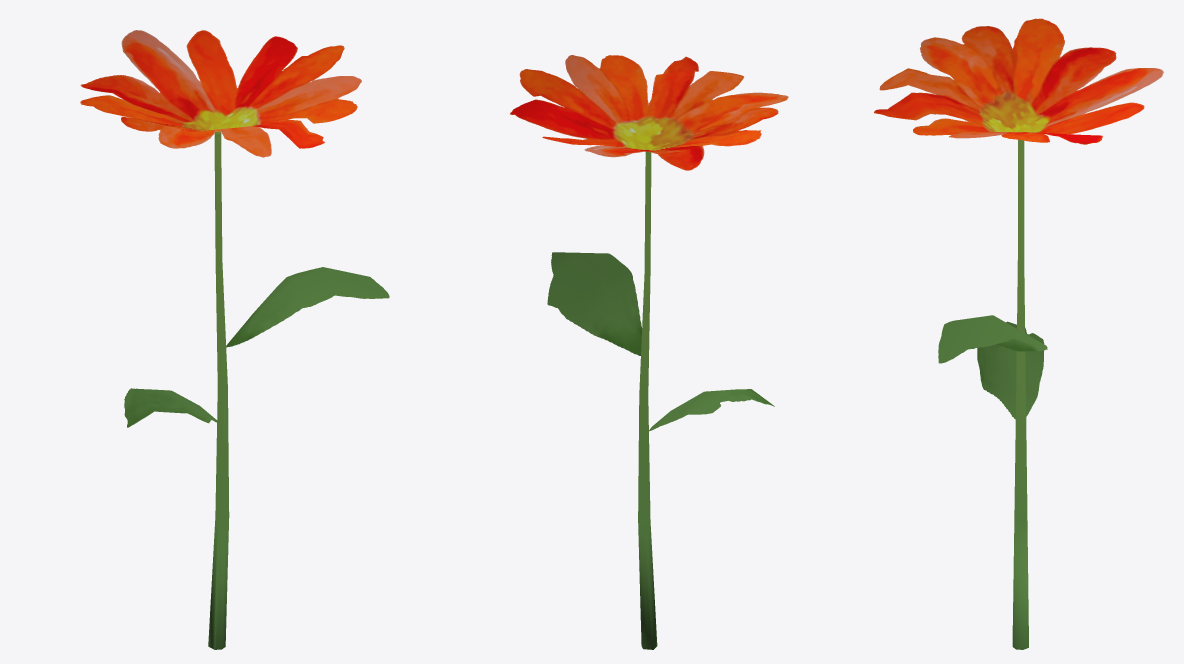
The model's file is FlowerE_VAR.fbx.
3 views of the same model, side by side, from view 1: azimuth 30°, elevation 25°; view 2: azimuth 150°, elevation 25°; view 3: azimuth 270°, elevation 25° (orthographic). The views are drawn at different scales.
Parts seen in each view (by area): view 1: FlowerE_VAR_LOD0; view 2: FlowerE_VAR_LOD0; view 3: FlowerE_VAR_LOD0.
Part boxes in pixels (box(x1,y1,x2,y2)): FlowerE_VAR_LOD0: box(80, 30, 389, 649); FlowerE_VAR_LOD0: box(510, 55, 788, 649); FlowerE_VAR_LOD0: box(874, 18, 1163, 649).
Size of what is drawn, in the model's own units: 29.93 by 53.72 by 25.94.
